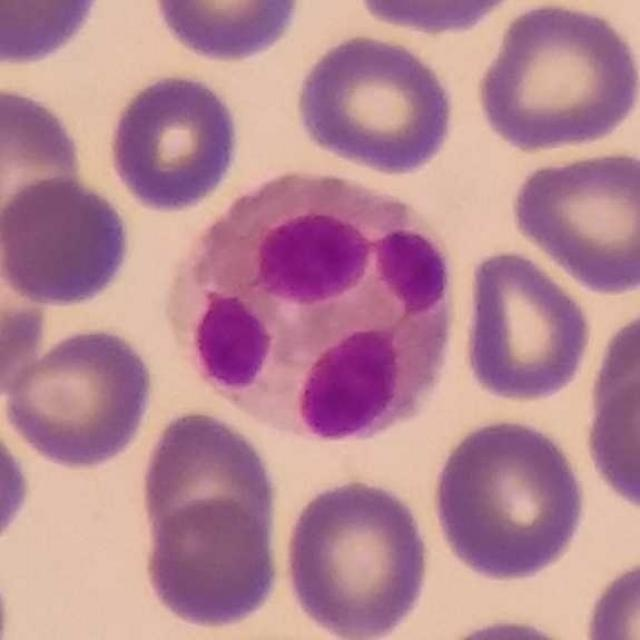eosino: (165, 171, 450, 445)
